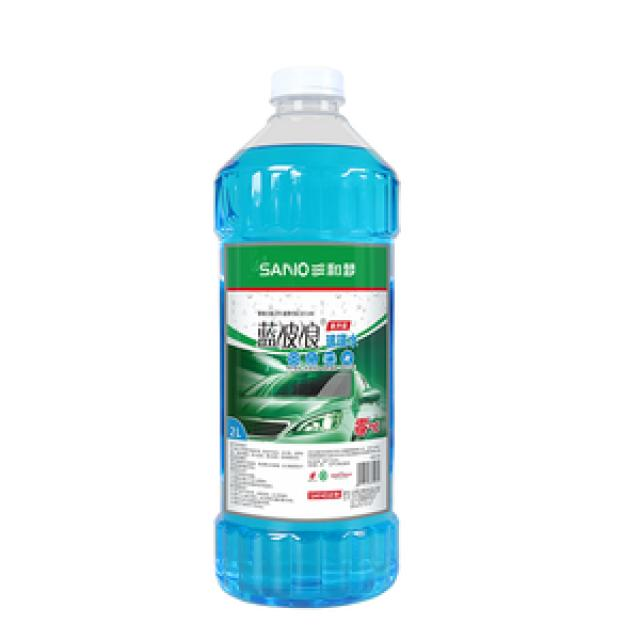winwinshield_washer: (210, 56, 401, 612)
